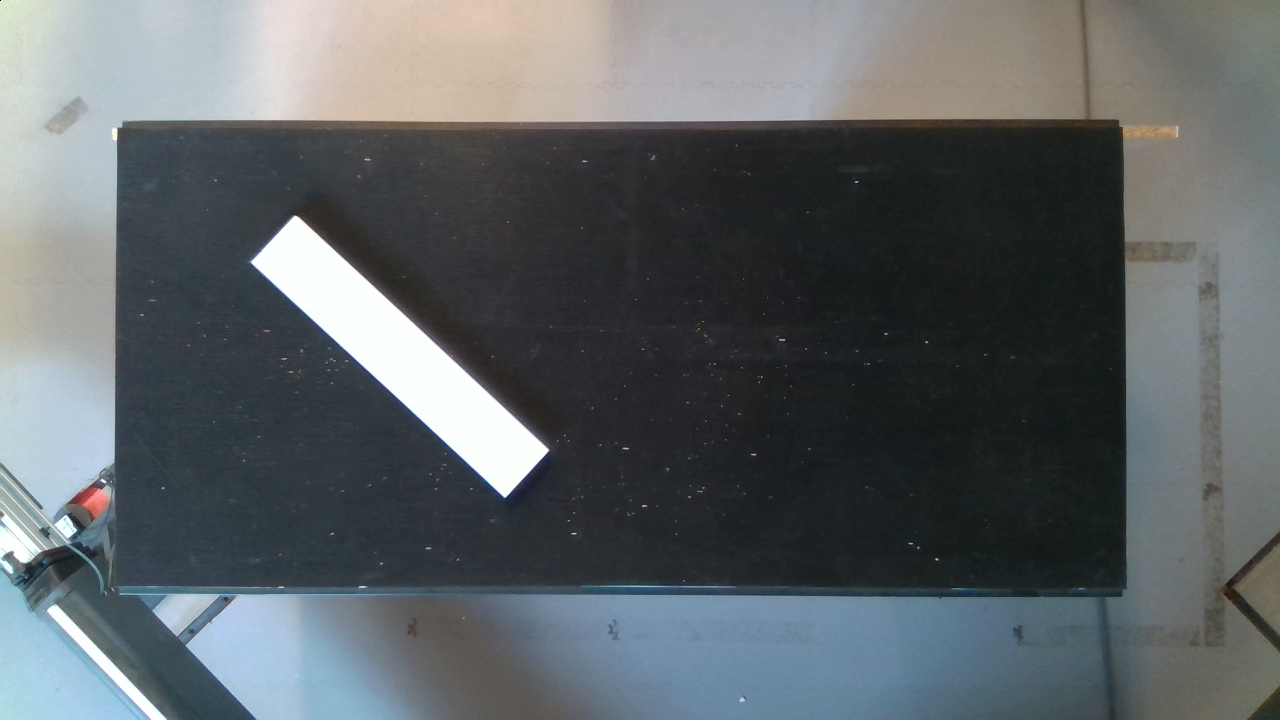part1: (246, 200, 548, 521)
